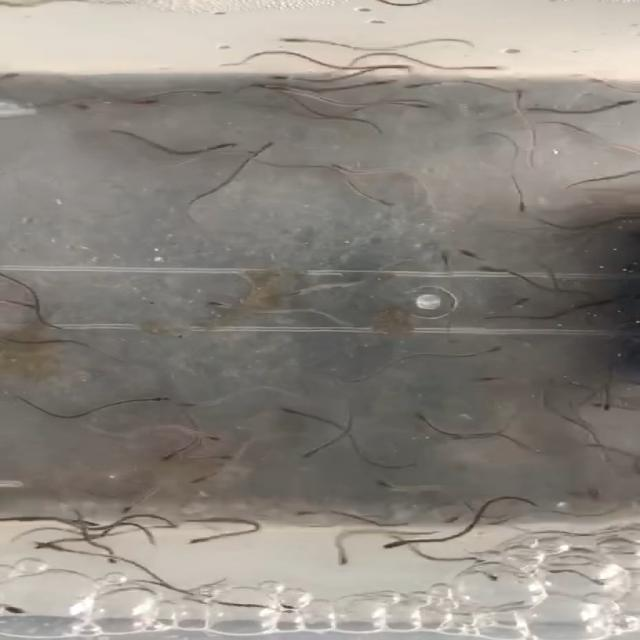active_glass_eel: (144, 129, 236, 154), (213, 145, 278, 180), (430, 426, 504, 451), (499, 174, 556, 205), (119, 79, 197, 99), (363, 467, 414, 497), (398, 80, 444, 107), (321, 153, 361, 180), (139, 380, 175, 410), (319, 542, 370, 563), (363, 188, 408, 210), (123, 500, 165, 522), (243, 82, 297, 99), (150, 452, 205, 468), (324, 78, 378, 94), (263, 32, 305, 52), (312, 502, 344, 526), (479, 260, 524, 277), (212, 298, 258, 314), (182, 393, 214, 413), (295, 276, 326, 296), (49, 540, 89, 553), (464, 344, 491, 363), (592, 386, 617, 406), (378, 96, 404, 115), (293, 70, 323, 86), (435, 57, 464, 73), (393, 535, 418, 553), (210, 535, 244, 548), (327, 38, 357, 52), (201, 427, 224, 443), (505, 86, 527, 100)
